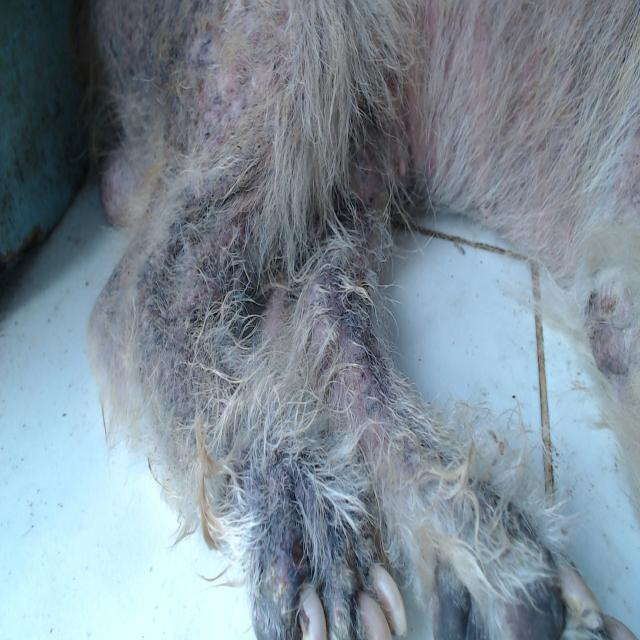demodicosis: (162, 185, 247, 385), (141, 12, 255, 150), (314, 274, 397, 441)
